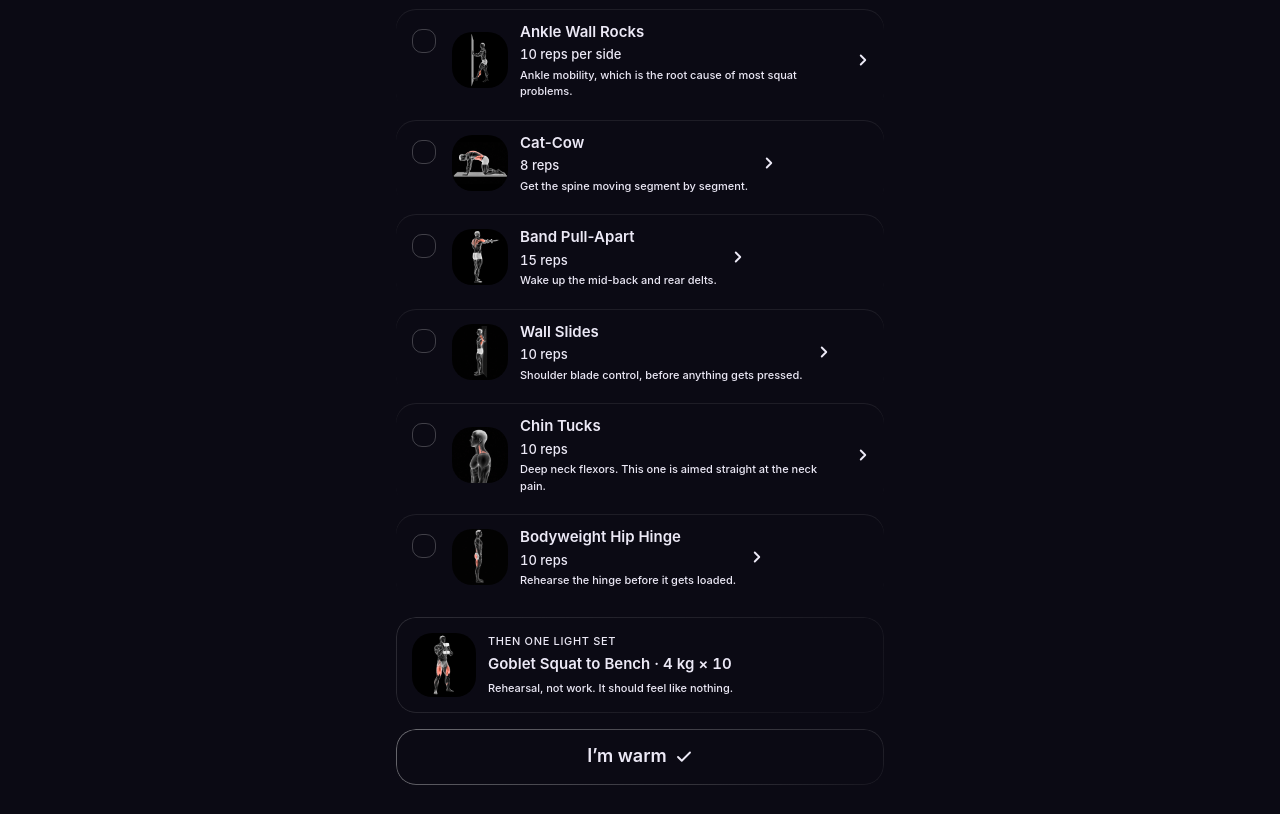
Test case: skipping an exercise › moves straight to the next one
(page scrolled)
Click the button "I’m warm".
click(640, 757)  # box [396,729,884,785]
(page scrolled)
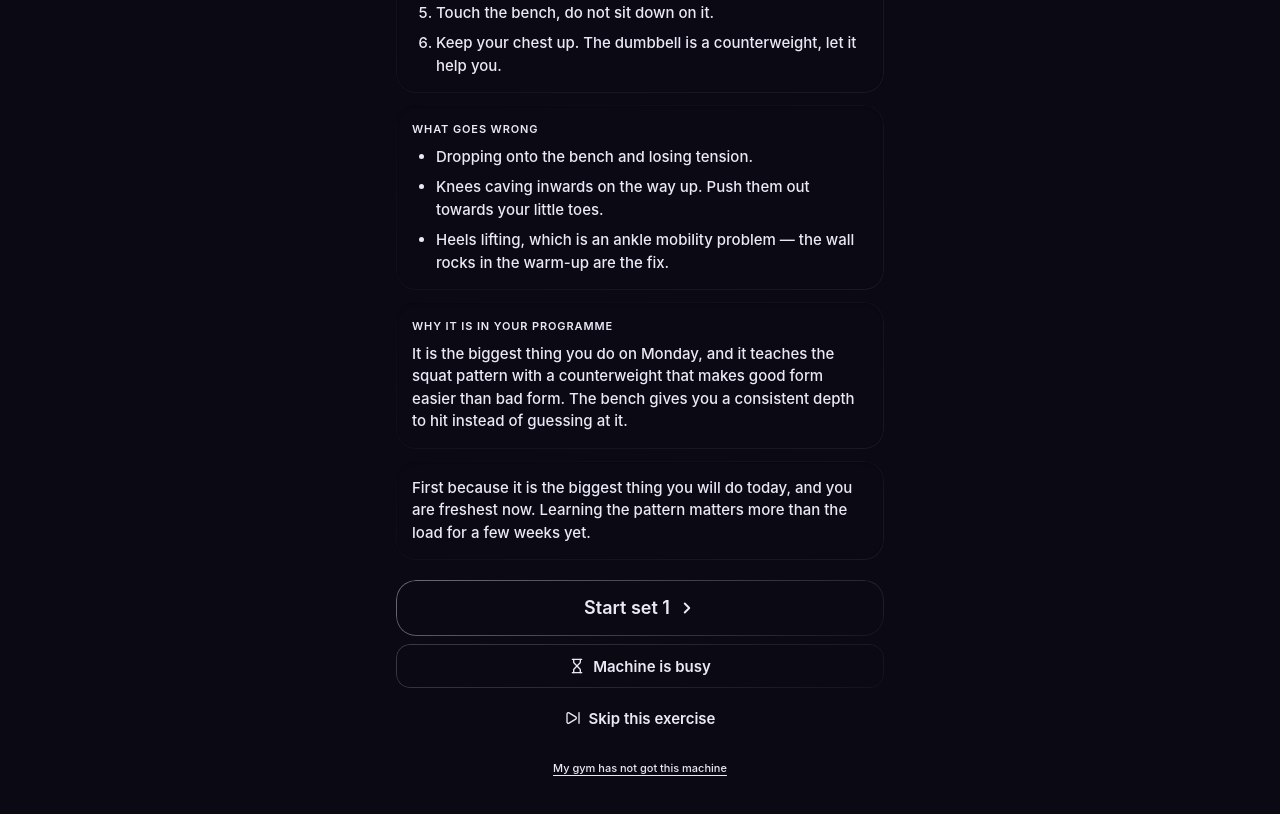
Click the button "Skip this exercise".
click(640, 718)  # box [396,696,884,740]
(page scrolled)
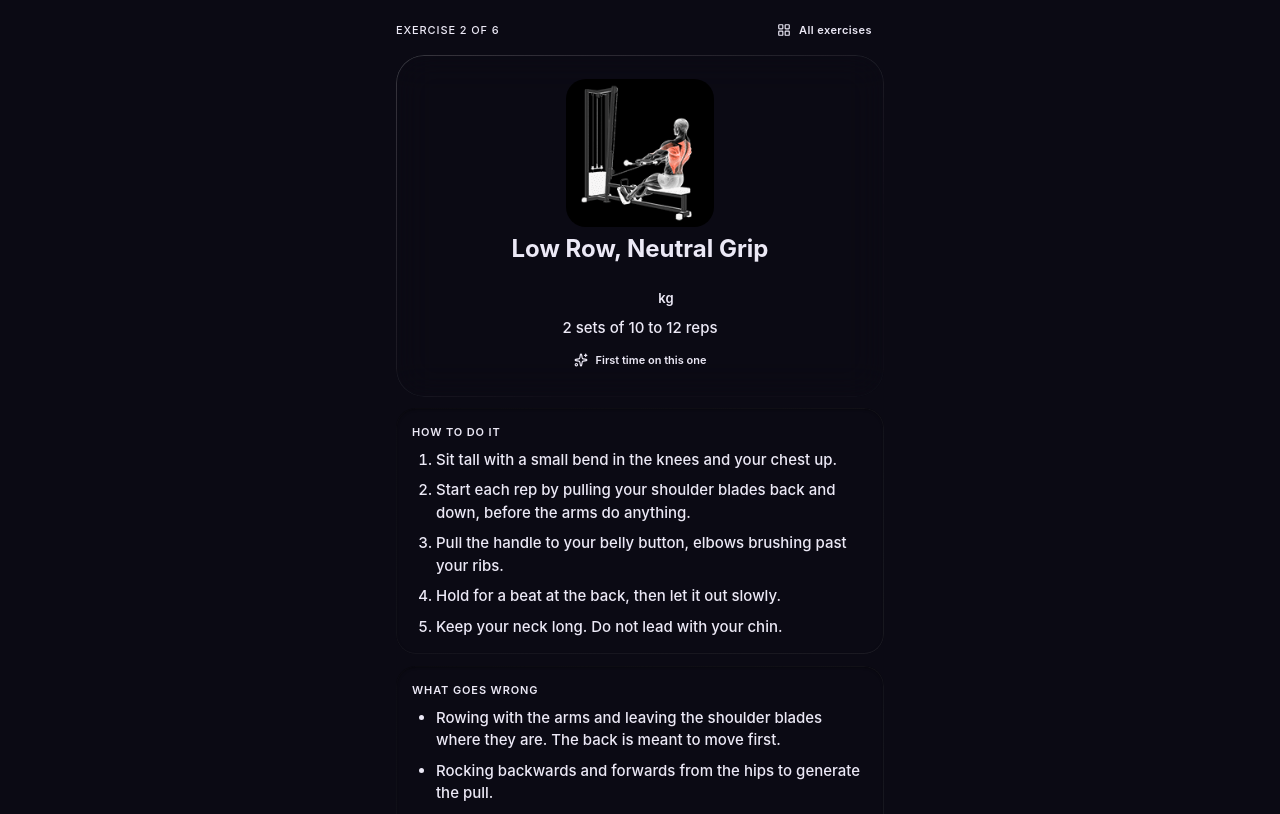
Result: the heading "Low Row, Neutral Grip" is shown at [512,235,768,262]
